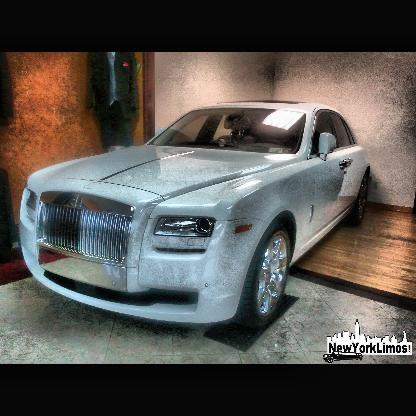Rolls-Royce Ghost Sedan 2012: (20, 100, 373, 325)
